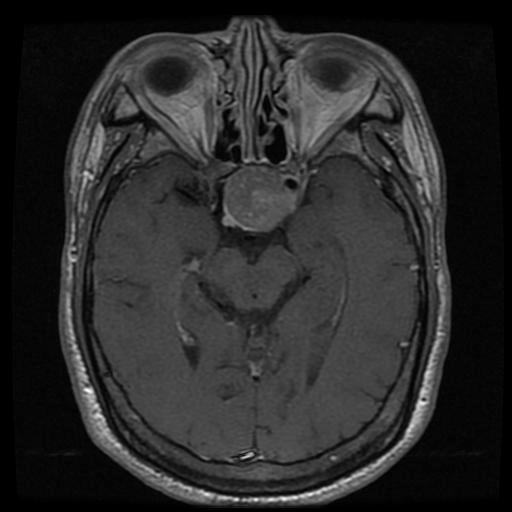Tumour-Pituitary: (212, 172, 306, 237)
